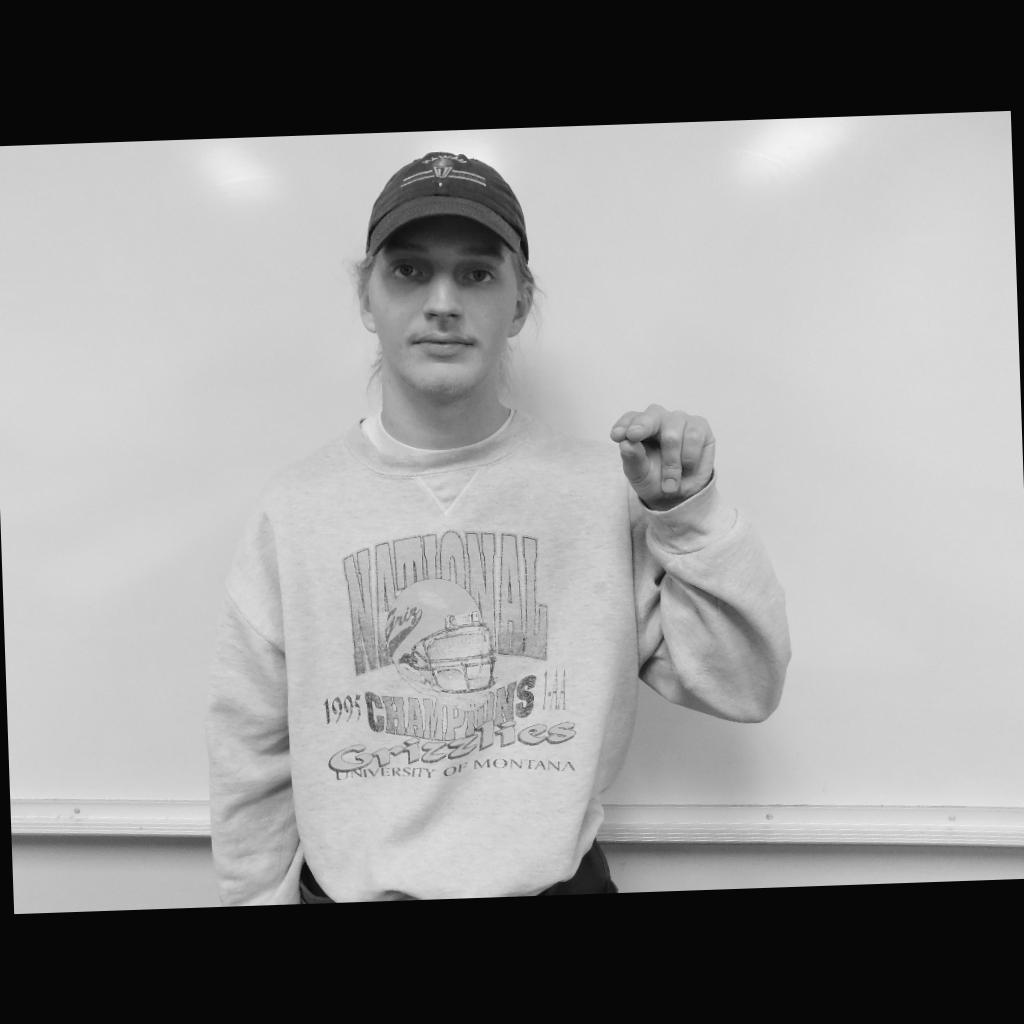no: (608, 401, 718, 504)
